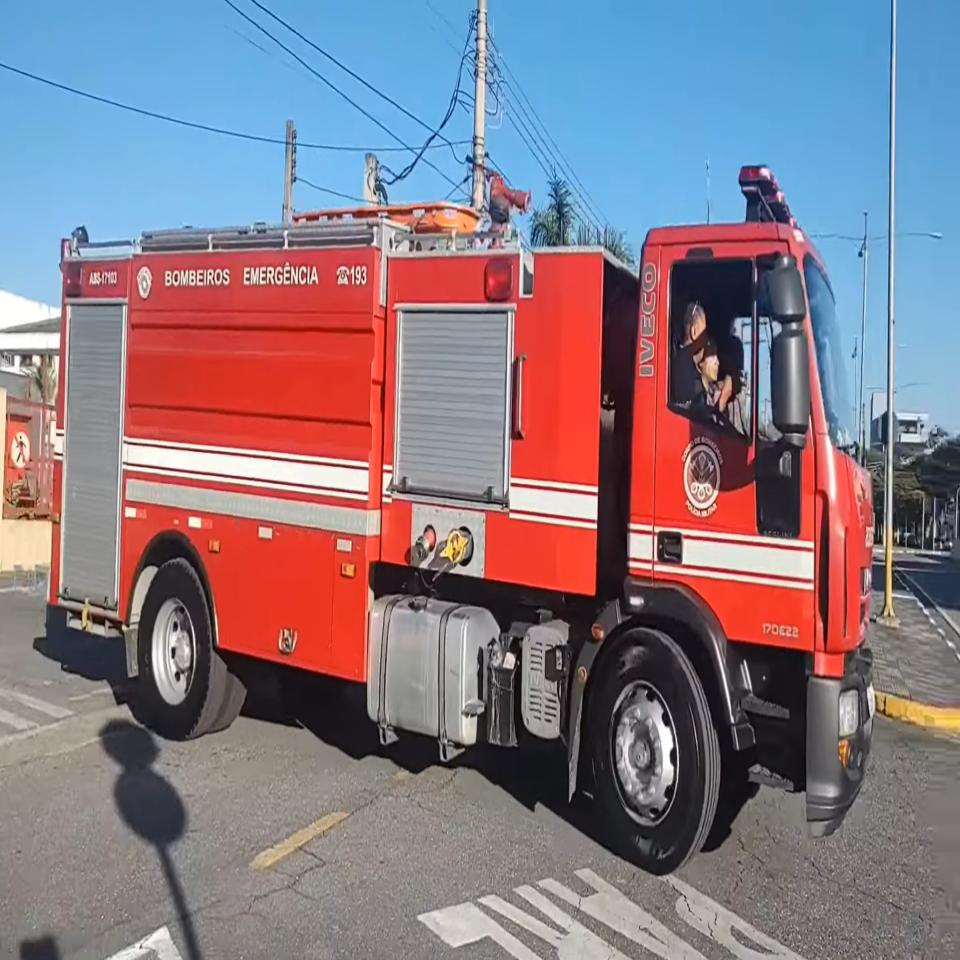viatura: (45, 168, 876, 874)
